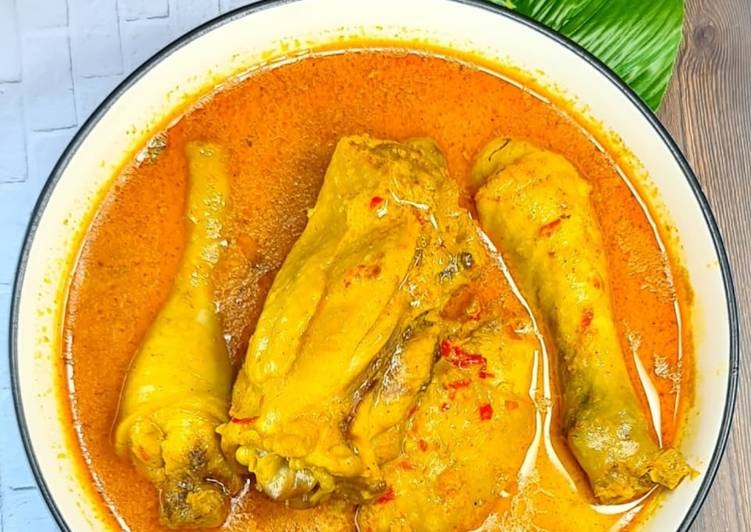gulai_ayam: (18, 43, 706, 531)
